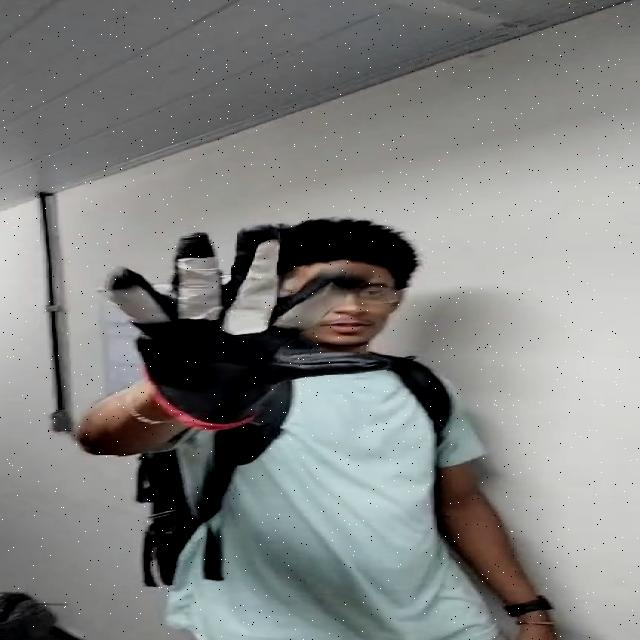Gloves: (108, 227, 386, 420)
